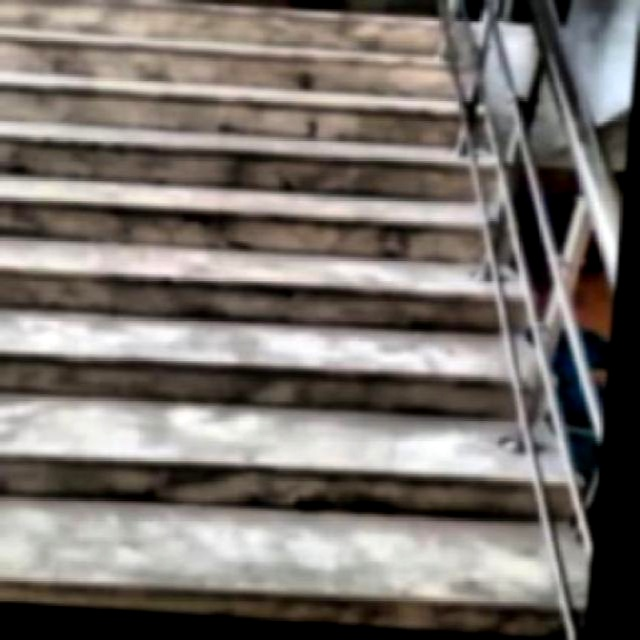stair: (2, 0, 602, 638)
